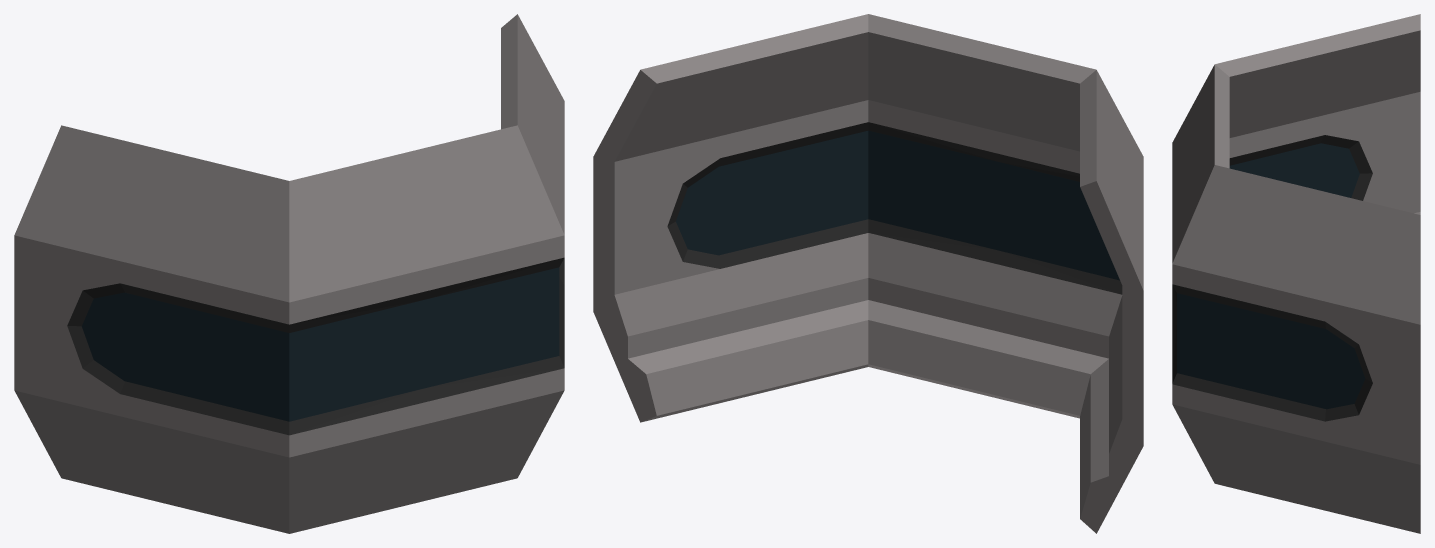
File: scifi-window-corridor-turn.glb
The picture shows the model from 3 angles, left to right: view 1: azimuth 30°, elevation 25°; view 2: azimuth 150°, elevation 25°; view 3: azimuth 270°, elevation 25°; orthographic projection. The views are drawn at different scales.
Parts seen in each view (by area): view 1: scifi-window-corridor-turn; view 2: scifi-window-corridor-turn; view 3: scifi-window-corridor-turn.
Part boxes in pixels (x1=…): scifi-window-corridor-turn: x1=14, y1=14, x2=564, y2=533; scifi-window-corridor-turn: x1=593, y1=14, x2=1143, y2=533; scifi-window-corridor-turn: x1=1172, y1=14, x2=1420, y2=533.
Bounding box in the file's own units: 5.2 × 3.19 × 2.25.
Materials: 1 (1 with a texture image).
